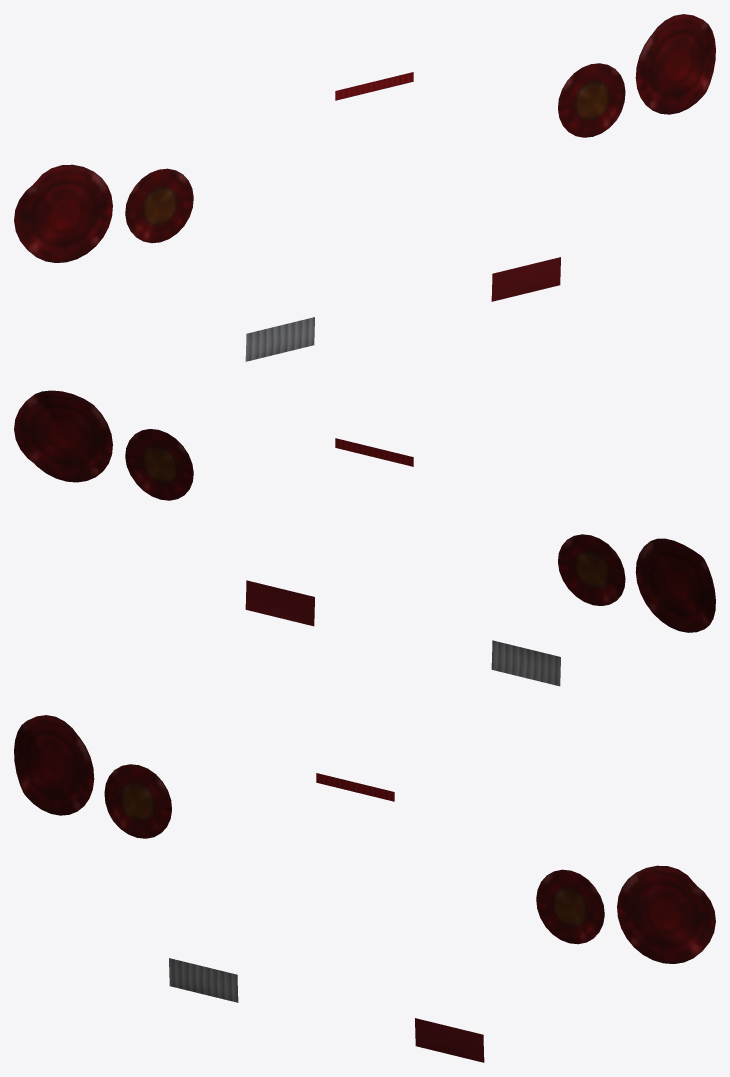
File: gtr_99_lens_tail.obj
3 views of the same model, one above another, from view 1: azimuth 30°, elevation 25°; view 2: azimuth 150°, elevation 25°; view 3: azimuth 330°, elevation 25° (orthographic).
Visible parts, largest first — view 1: gtr_99_lens_tail; view 2: gtr_99_lens_tail; view 3: gtr_99_lens_tail.
Part boxes in pixels (box(x1,y1,x2,y2)): gtr_99_lens_tail: box(14, 14, 715, 361); gtr_99_lens_tail: box(14, 390, 715, 686); gtr_99_lens_tail: box(14, 715, 715, 1062).
Bounding box in the file's own units: 1.5 × 0.4529 × 0.1452.
